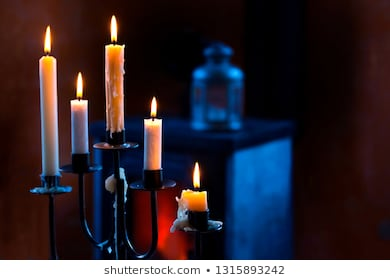Fire: (40, 26, 55, 54), (72, 71, 86, 99), (107, 15, 121, 42), (192, 162, 203, 190), (149, 95, 156, 117)
